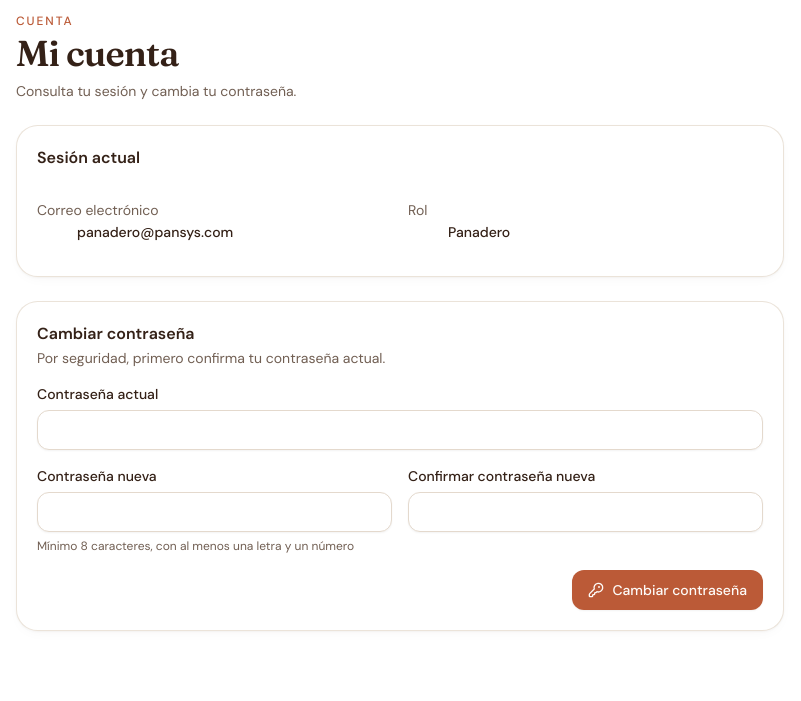
Test: si la respuesta no trae token (backend anterior), conserva la sesión sin romperse
Type "Anterior2025" into the password field labelled "Contraseña actual".
click(400, 430); type("Anterior2025")  # box [37, 410, 763, 450]
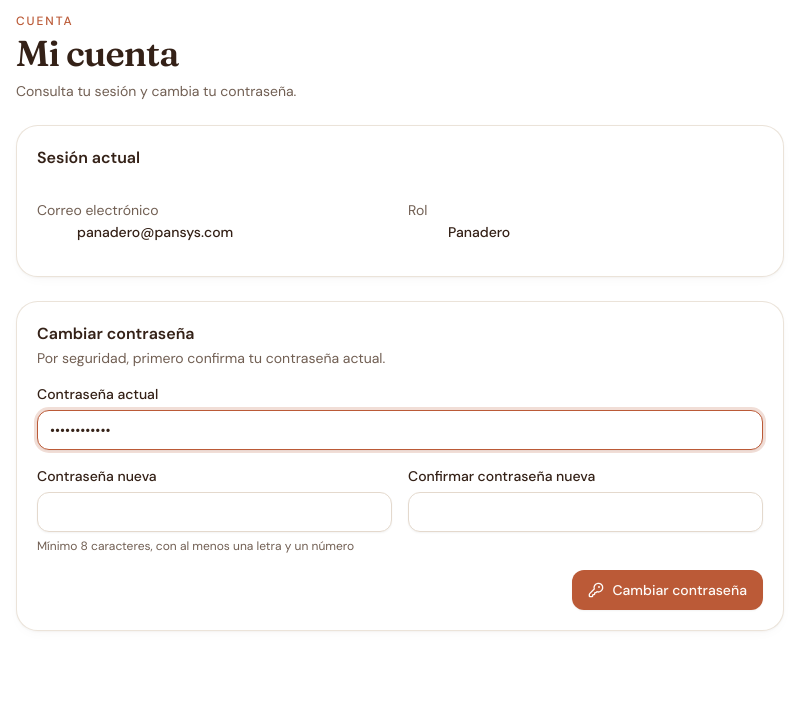
Type "Nueva2026" into the password field labelled "Contraseña nueva".
click(214, 512); type("Nueva2026")  # box [37, 492, 392, 532]
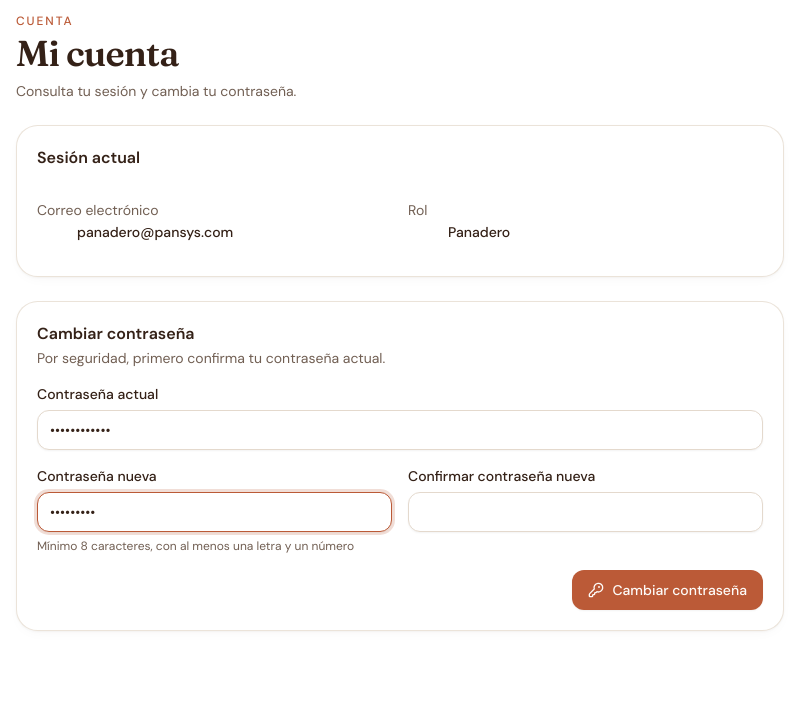
Type "Nueva2026" into the password field labelled "Confirmar contraseña nueva".
click(586, 512); type("Nueva2026")  # box [408, 492, 763, 532]
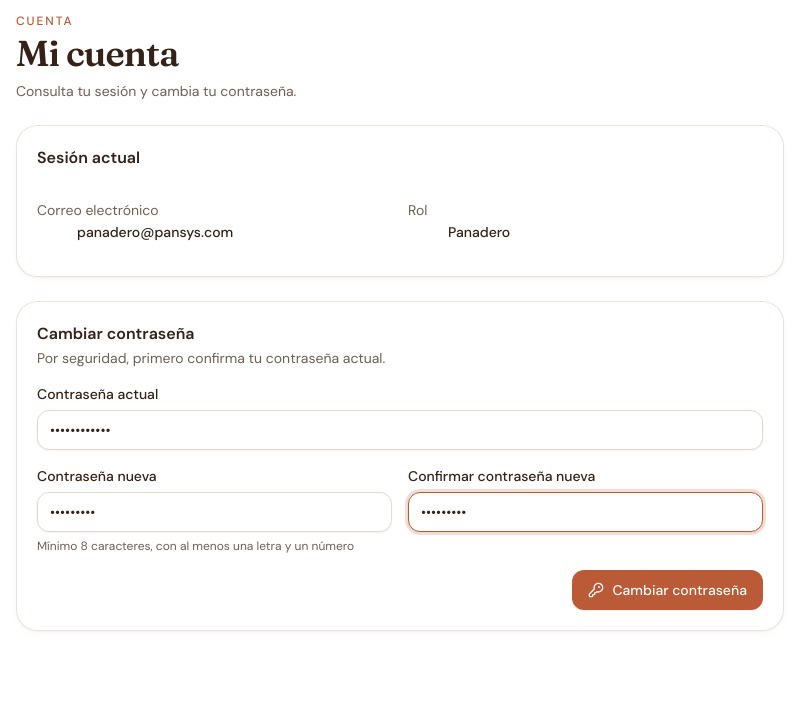
Click the button "Cambiar contraseña".
click(668, 590)  # box [572, 570, 763, 610]
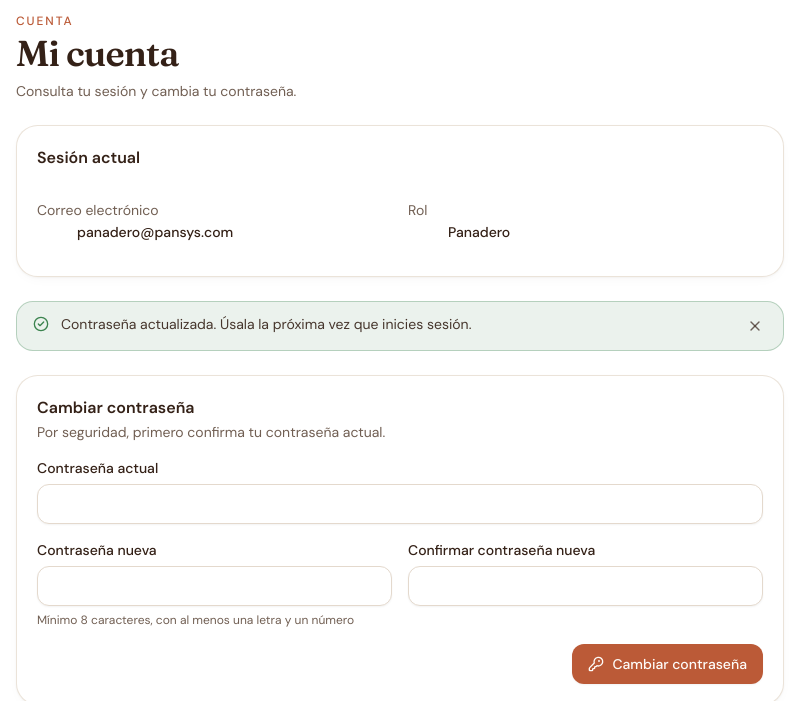
Now the text "Contraseña actualizada. Úsala la próxima vez que inicies sesión." is shown, box [61, 315, 471, 333]
